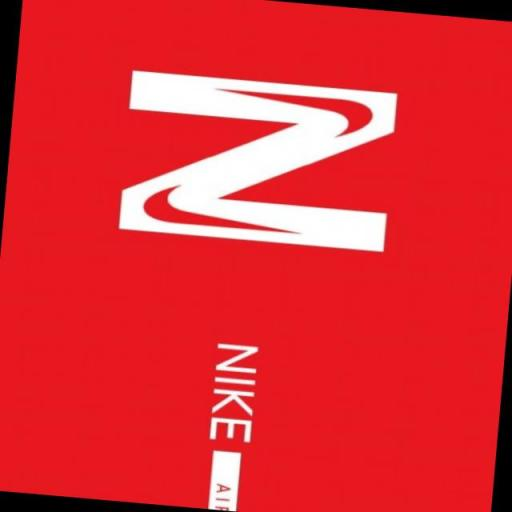Nike: (194, 335, 269, 450)
